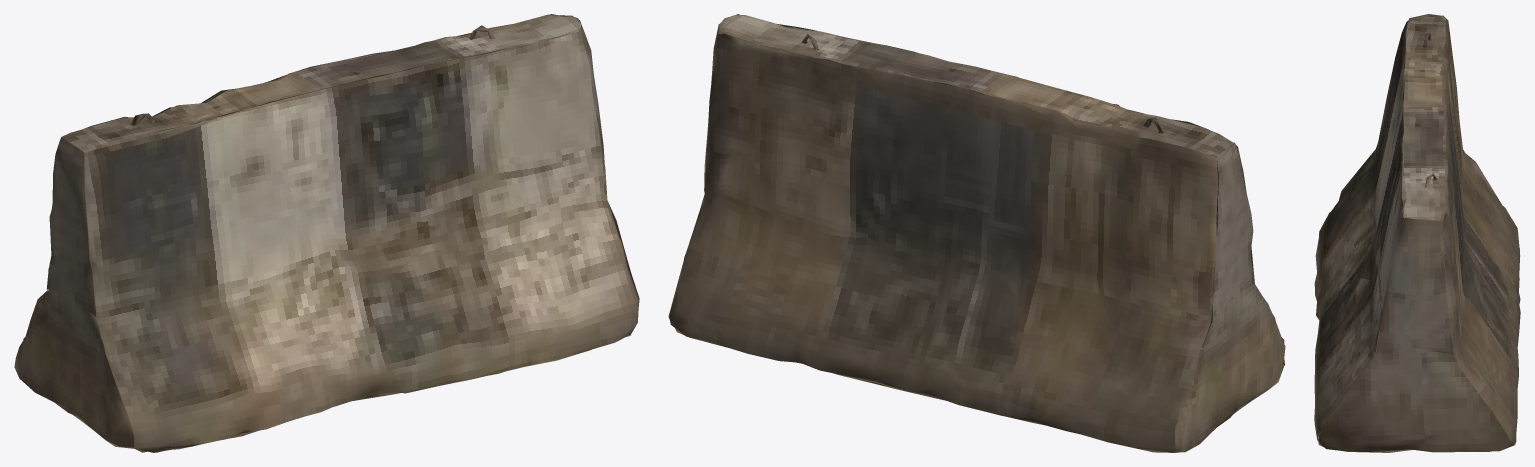
File: concrete_road_barrier.glb
3 renders of one model, left to right at view 1: azimuth 30°, elevation 25°; view 2: azimuth 150°, elevation 25°; view 3: azimuth 270°, elevation 25°, orthographic. The views are drawn at different scales.
Visible parts, largest first — view 1: concrete_road_barrier; view 2: concrete_road_barrier; view 3: concrete_road_barrier.
Boxes of the visible parts, x1=… form: concrete_road_barrier: x1=14, y1=14, x2=639, y2=452; concrete_road_barrier: x1=668, y1=14, x2=1285, y2=452; concrete_road_barrier: x1=1314, y1=14, x2=1520, y2=452.
Size of the model in its own units: 1.54 by 0.8323 by 0.6344.
1 material, 1 textured.
